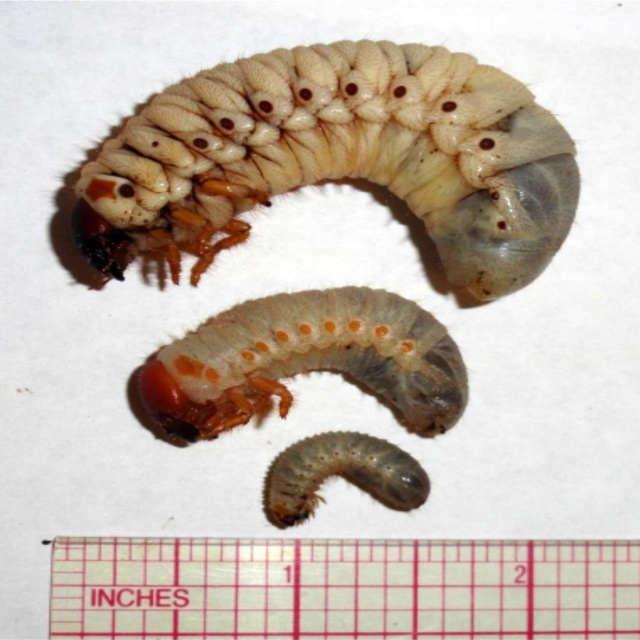Caterpillar: (71, 36, 583, 303), (124, 281, 469, 452), (256, 428, 429, 530)
